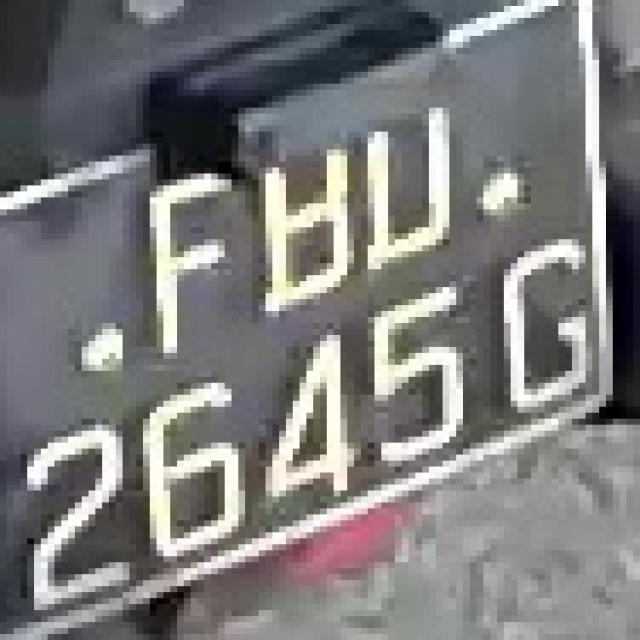2: (14, 401, 129, 616)
4: (238, 329, 374, 520)
5: (354, 287, 477, 461)
6: (122, 353, 266, 568)
B: (232, 108, 368, 317)
D: (347, 90, 477, 275)
F: (129, 143, 245, 359)
G: (483, 221, 606, 401)
